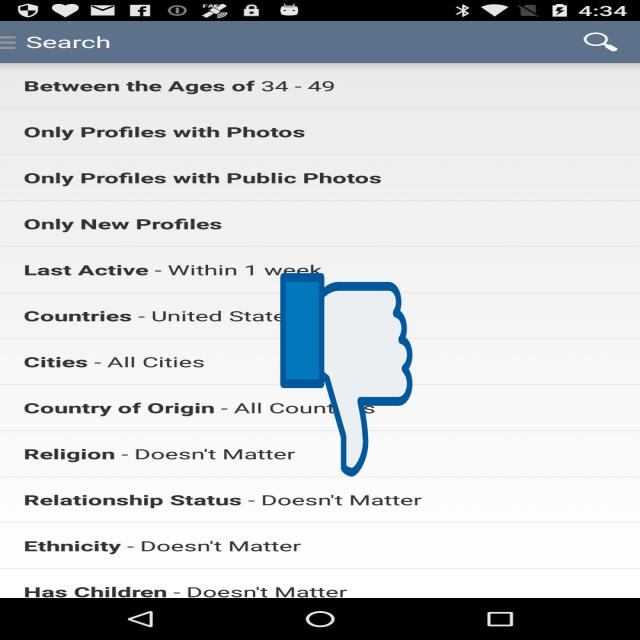obstruction: (280, 269, 412, 481)
